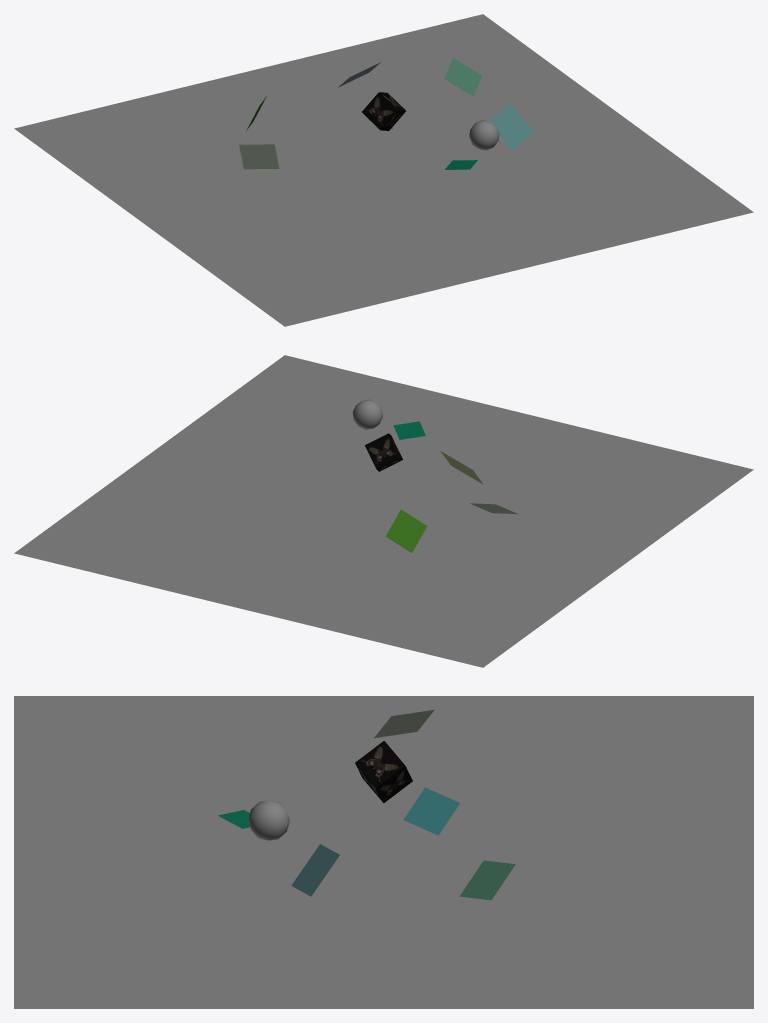
3 renders of one model, top to bottom at view 1: azimuth 30°, elevation 25°; view 2: azimuth 150°, elevation 25°; view 3: azimuth 270°, elevation 25°, orthographic. The views are drawn at different scales.
Parts seen in each view (by area): view 1: floor, grids, box, sphere; view 2: floor, grids, box, sphere; view 3: floor, grids, box, sphere.
Boxes of the visible parts, bbox=[...] form: floor: bbox=[14, 14, 753, 326]; grids: bbox=[239, 58, 533, 169]; box: bbox=[362, 92, 405, 130]; sphere: bbox=[469, 120, 499, 150]; floor: bbox=[14, 355, 753, 667]; grids: bbox=[386, 421, 517, 552]; box: bbox=[365, 433, 402, 471]; sphere: bbox=[352, 399, 382, 429]; floor: bbox=[14, 696, 753, 1008]; grids: bbox=[218, 709, 515, 900]; box: bbox=[355, 741, 412, 803]; sphere: bbox=[248, 800, 289, 840].
Bounding box in the file's own units: 20 × 3.24 × 20.
Materials: 3 (1 with a texture image).
